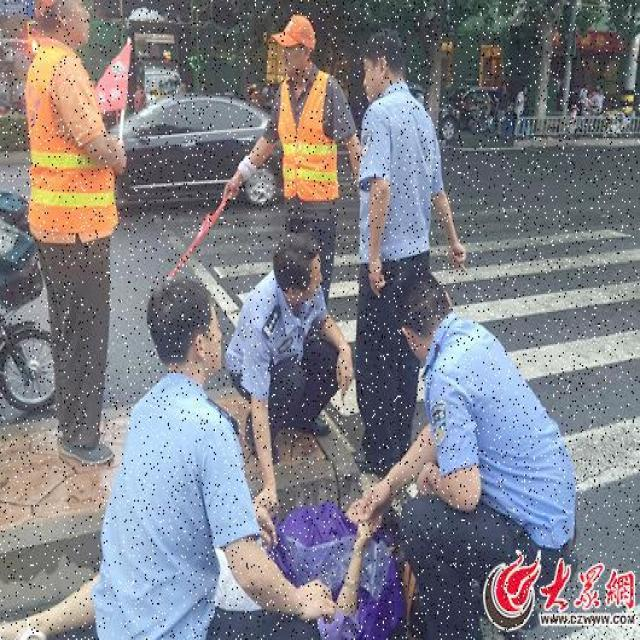fall: (2, 498, 382, 637)
